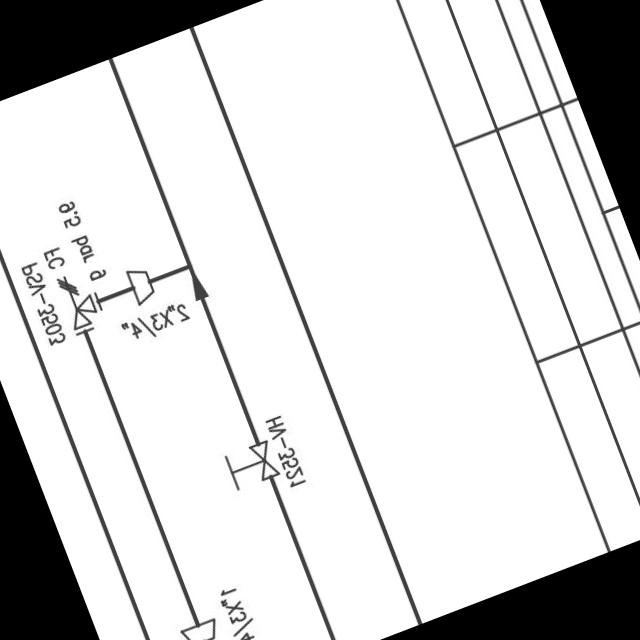HVWT: (215, 430, 284, 496)
RPV: (46, 258, 116, 346)
SP: (119, 258, 160, 310), (173, 608, 226, 640)
